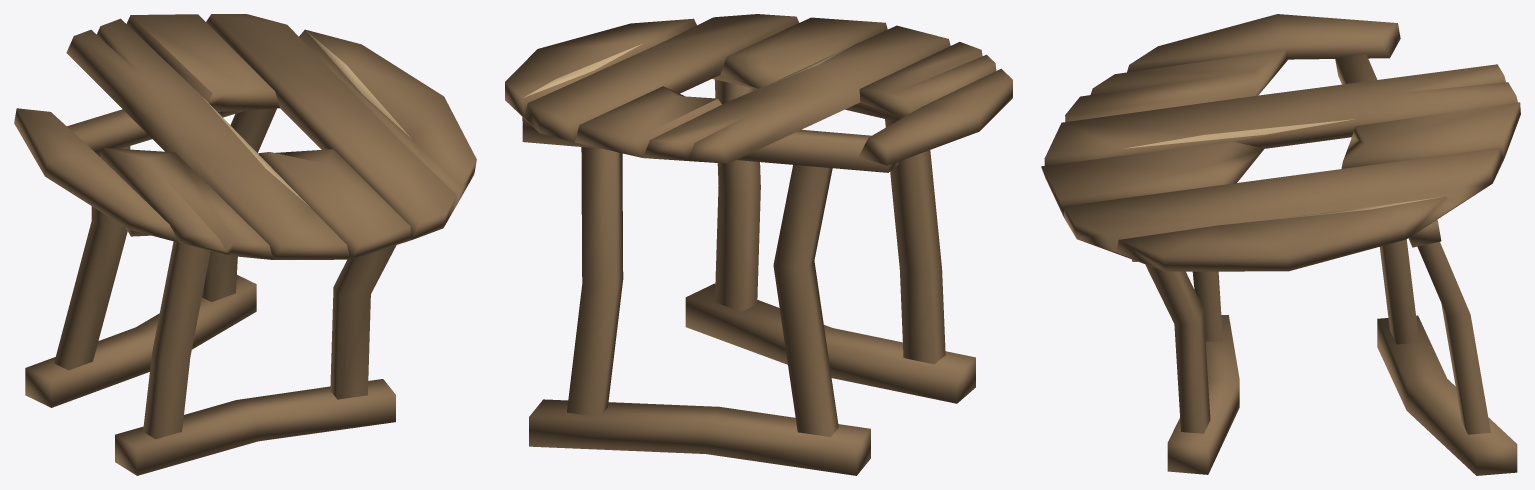
File: rpgpp_av_table_02.gltf
The picture shows the model from 3 angles, left to right: view 1: azimuth 30°, elevation 25°; view 2: azimuth 150°, elevation 25°; view 3: azimuth 270°, elevation 25°; orthographic projection. The views are drawn at different scales.
Parts seen in each view (by area): view 1: rpgpp_av_table_02; view 2: rpgpp_av_table_02; view 3: rpgpp_av_table_02.
Part boxes in pixels (bbox=[...]): rpgpp_av_table_02: bbox=[14, 14, 476, 475]; rpgpp_av_table_02: bbox=[505, 14, 1012, 475]; rpgpp_av_table_02: bbox=[1041, 14, 1520, 475].
Size of the model in its own units: 0.0119 by 0.00877 by 0.0118.
1 material, 1 textured.
